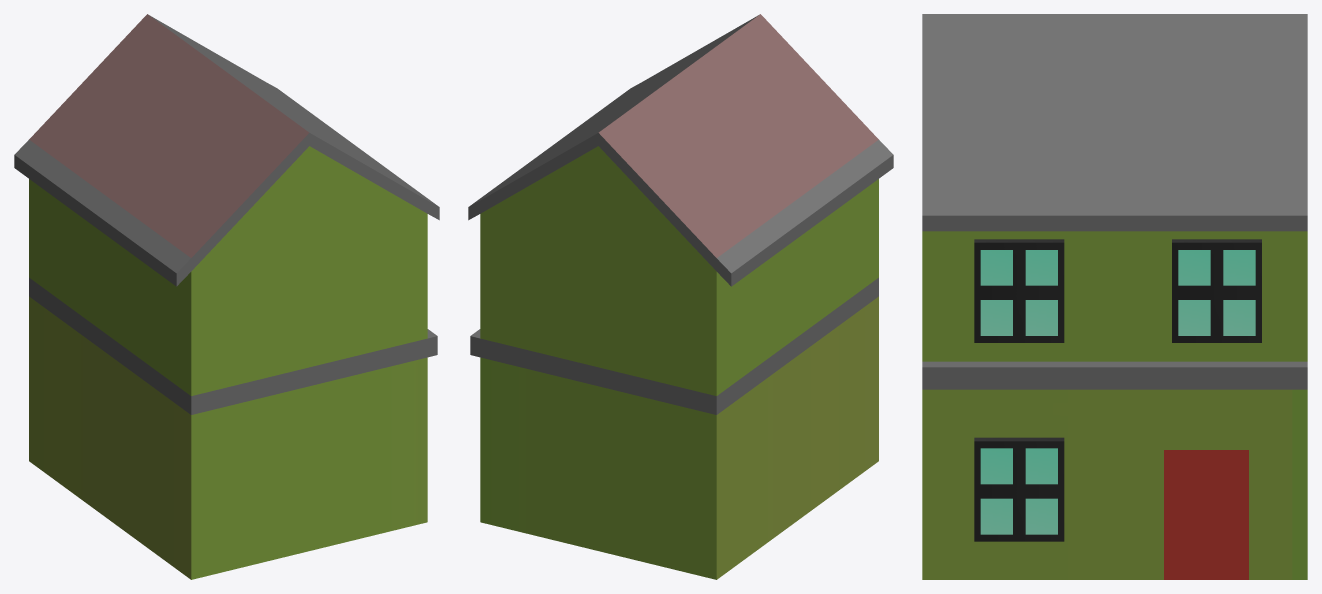
The model's file is Building_Generic.glb.
3 views of the same model, side by side, from view 1: azimuth 30°, elevation 25°; view 2: azimuth 150°, elevation 25°; view 3: azimuth 270°, elevation 25° (orthographic). The views are drawn at different scales.
Visible parts, largest first — view 1: Building.col; view 2: Building.col; view 3: Building.col.
Boxes of the visible parts, <box> form: Building.col: <box>14,14,439,579</box>; Building.col: <box>468,14,893,579</box>; Building.col: <box>922,14,1307,579</box>.
Size of the model in its own units: 11.31 by 17.2 by 12.09.
Materials: 1 (1 with a texture image).
